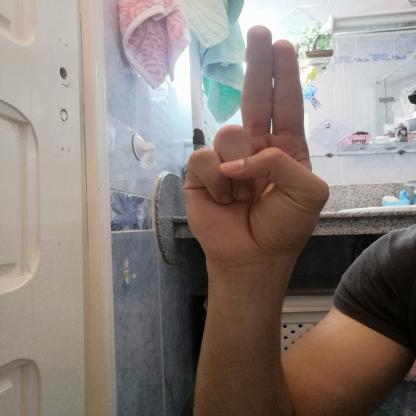TA: (162, 14, 346, 273)
